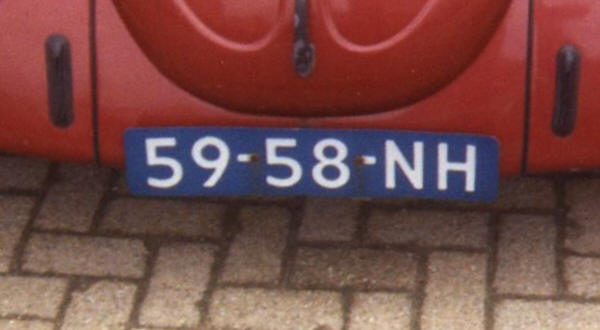license_plate: (125, 127, 499, 197)
